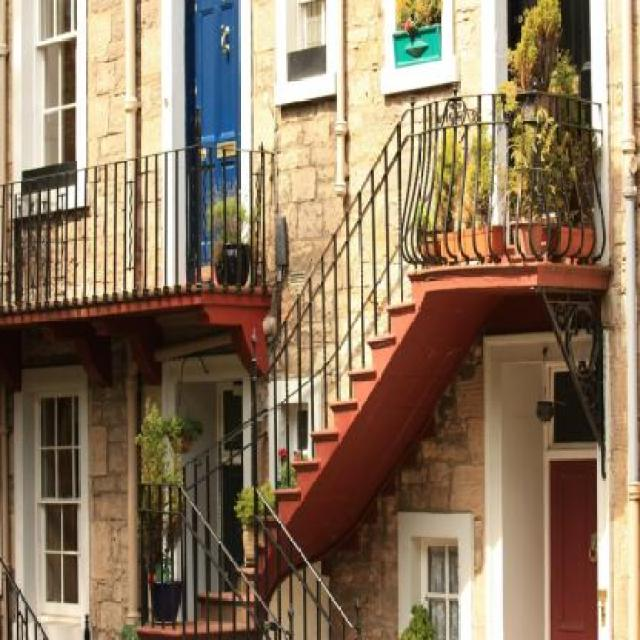stair: (130, 272, 428, 640)
